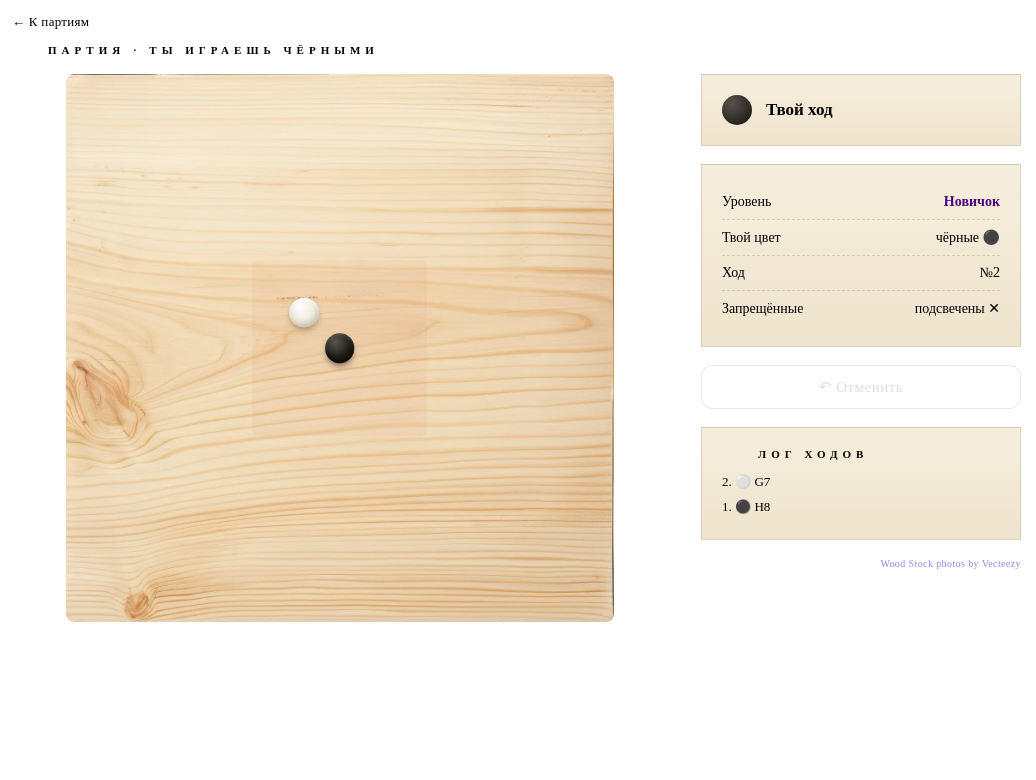
Test: свой ход: клик по свободной точке шлёт POST и рисует камень оптимистично
Expected: the text "Твой ход" is shown, [766, 100, 833, 120]
Click the button named "I8" at x=375, y=348, box [357, 330, 392, 366]
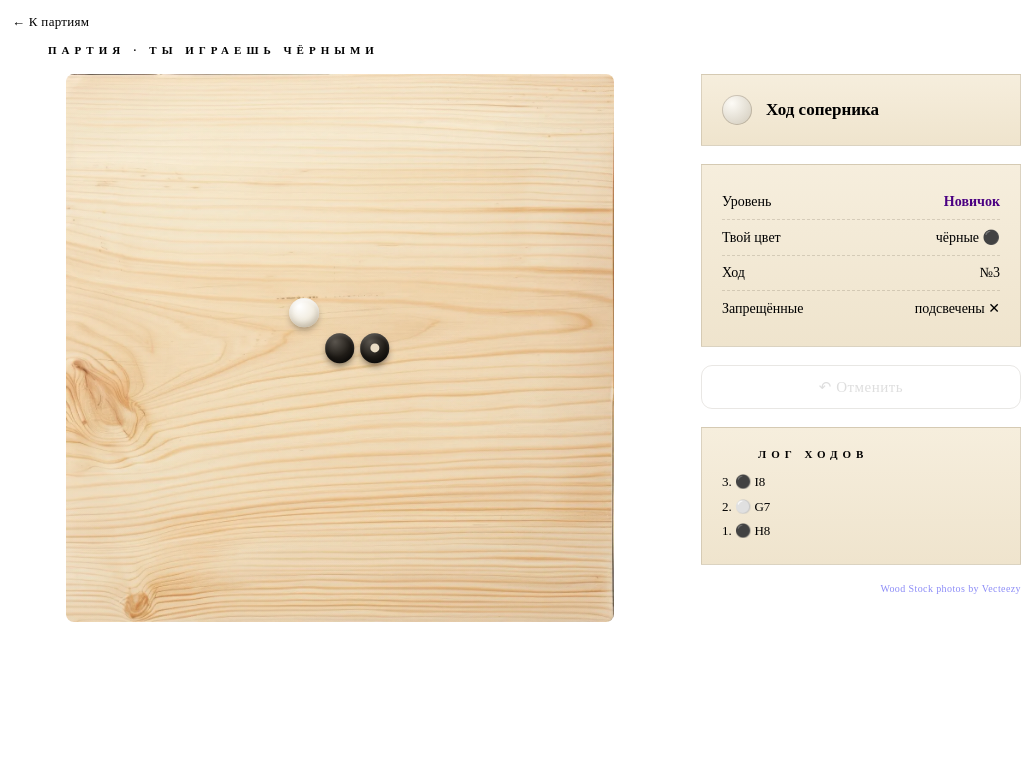
Expected: the element with test id "stone-8-7" is shown, [360, 333, 390, 363]
